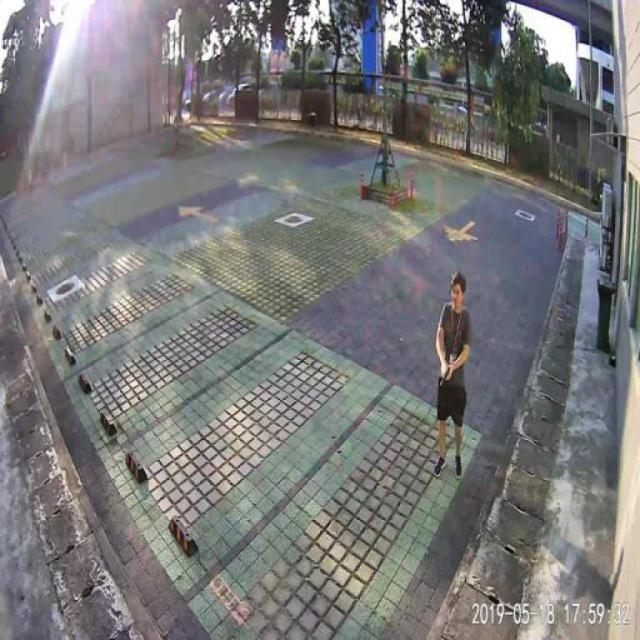pistol: (436, 364, 450, 385)
